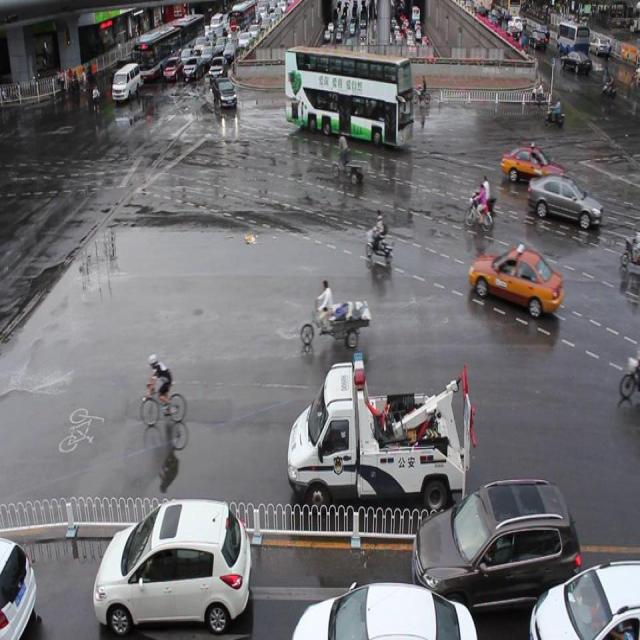bus: (287, 352, 473, 518)
car: (413, 477, 580, 615), (94, 497, 249, 628), (291, 579, 474, 640), (527, 558, 640, 640), (469, 246, 562, 319), (0, 534, 37, 640), (527, 175, 600, 228), (501, 144, 564, 184), (213, 77, 237, 110)
van: (284, 45, 412, 149)
